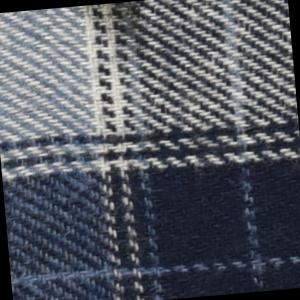Stain: (102, 1, 156, 44)
